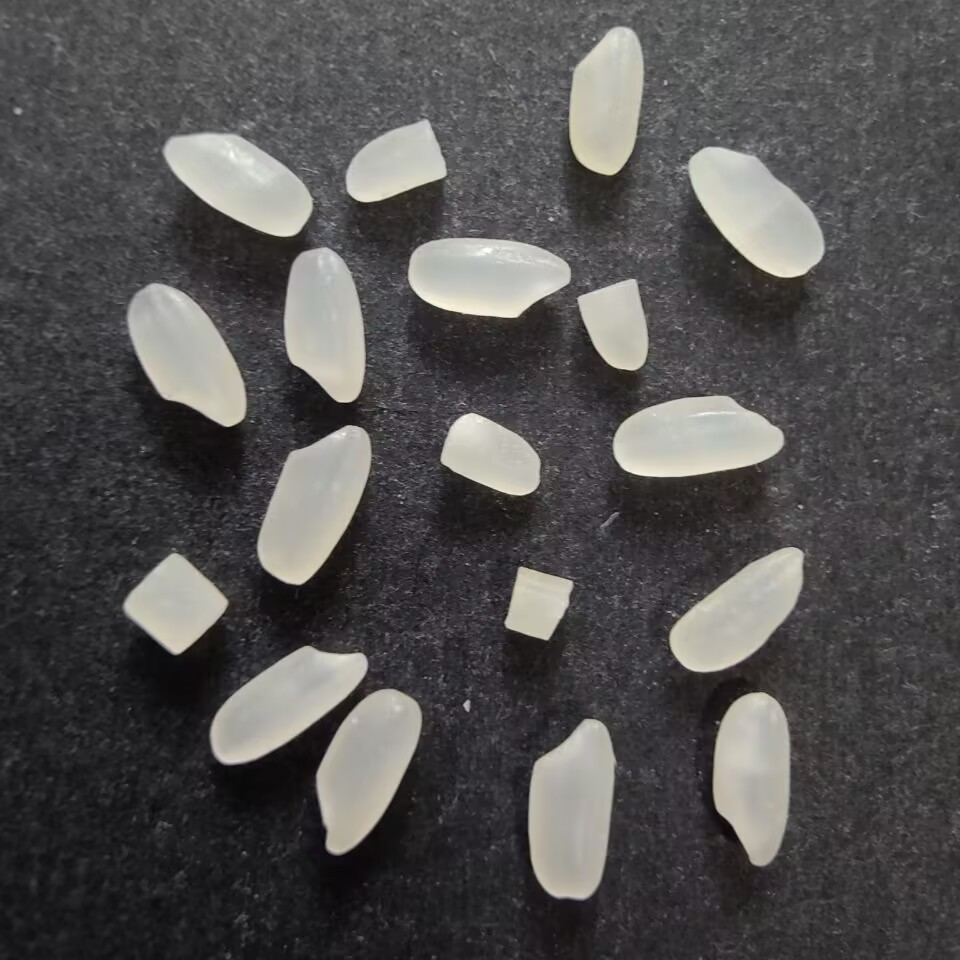broken: (120, 550, 232, 659), (342, 114, 452, 205), (439, 409, 543, 502), (573, 277, 653, 379), (502, 561, 576, 646)
rice: (205, 642, 373, 768), (254, 419, 376, 586), (687, 141, 830, 281), (312, 684, 426, 856), (522, 712, 618, 904), (125, 280, 249, 428), (667, 544, 805, 674), (160, 132, 314, 238), (709, 690, 795, 870), (611, 391, 787, 478), (403, 234, 574, 322), (281, 245, 370, 409), (563, 22, 646, 176)
